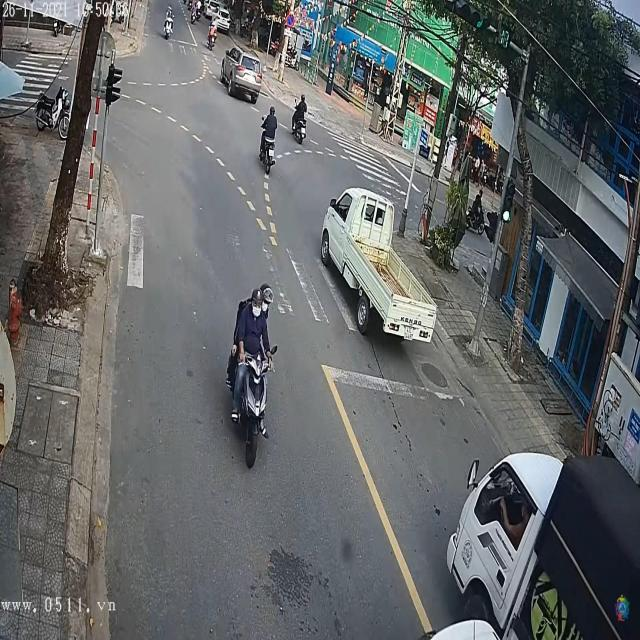car: (218, 46, 265, 105)
motorcycle: (223, 306, 281, 468), (259, 113, 278, 179), (291, 116, 308, 144), (162, 8, 176, 40), (206, 24, 217, 46)
truck: (320, 189, 441, 348)
